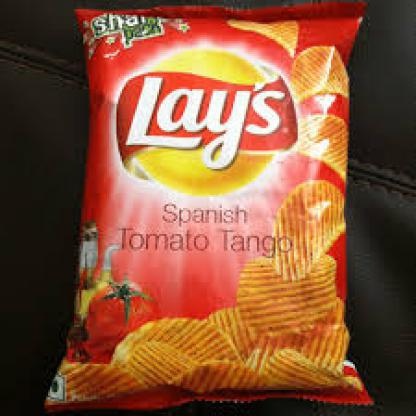tangy_tomato: (46, 4, 372, 414)
